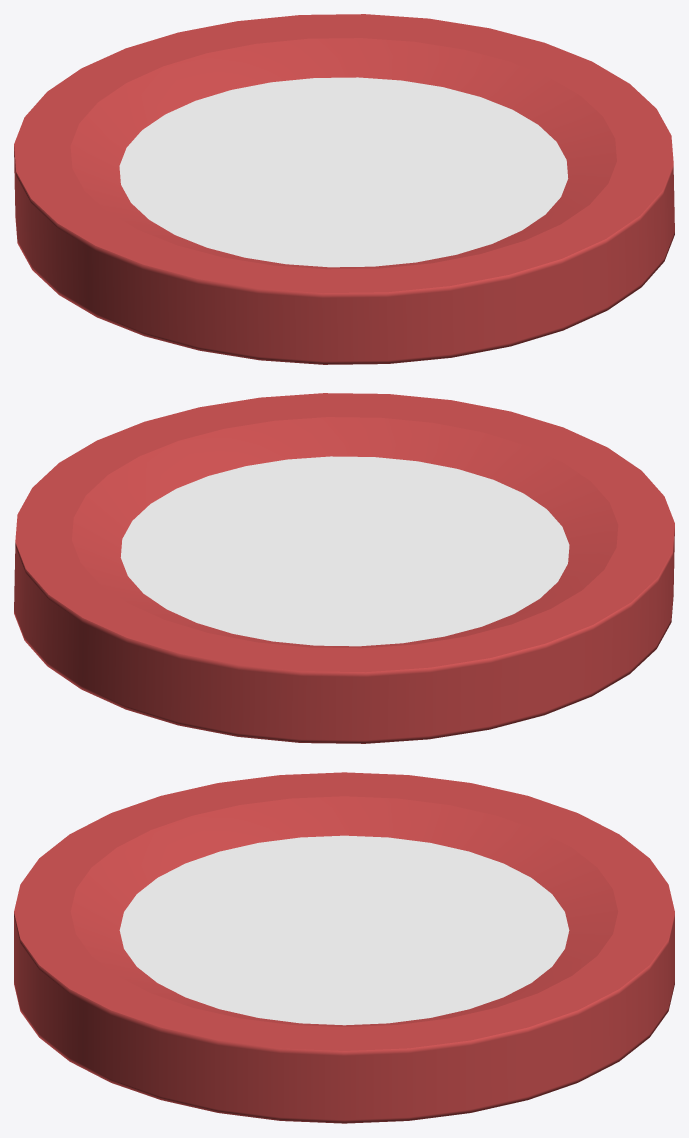
File: Plate.fbx
The picture shows the model from 3 angles, top to bottom: view 1: azimuth 30°, elevation 25°; view 2: azimuth 150°, elevation 25°; view 3: azimuth 270°, elevation 25°; orthographic projection.
Parts seen in each view (by area): view 1: Circle; view 2: Circle; view 3: Circle.
Part boxes in pixels (x1,y1,x2,y2): Circle: (14, 14, 674, 364); Circle: (14, 393, 674, 743); Circle: (14, 772, 674, 1123).
Size of the model in its own units: 500 by 60 by 500.
